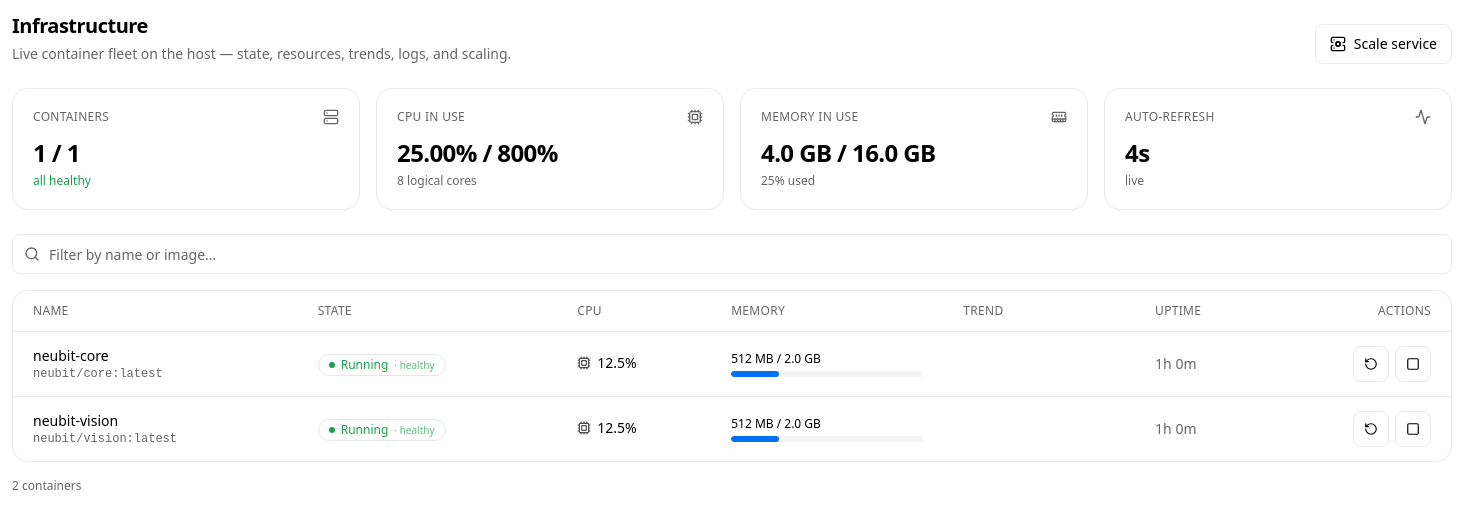
Test: infrastructure fleet › filters by name
Check: the text "neubit-vision" is shown, box [33,411,118,430]
Type "vision" into the field with placeholder "Filter by name or image…" at point(732, 254), box [12,234,1452,274]
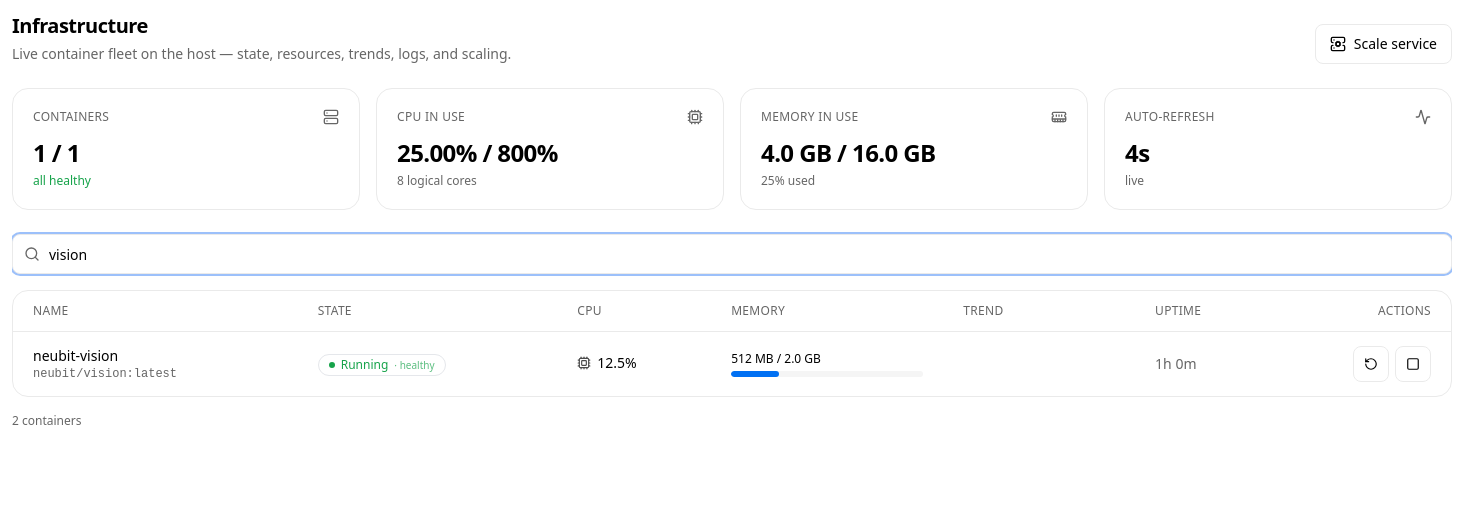
Check: the text "neubit-vision" is shown, box [33,346,118,365]
Check: the text "neubit-core" is gone
